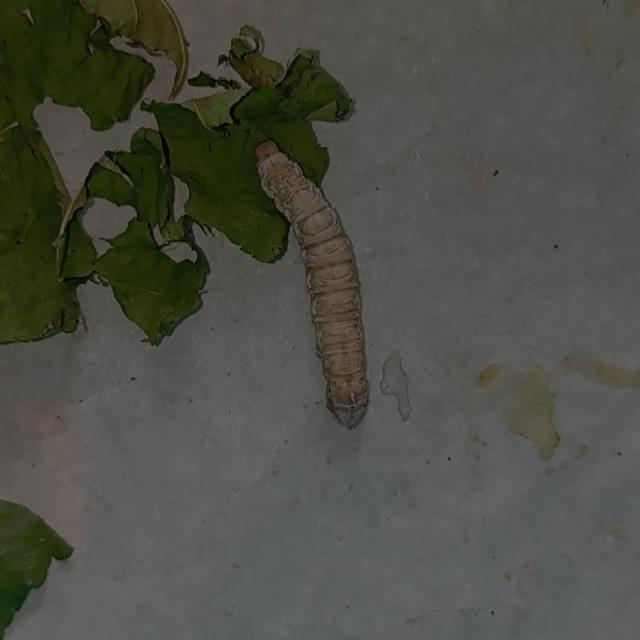Grasserie: (250, 123, 390, 433)
